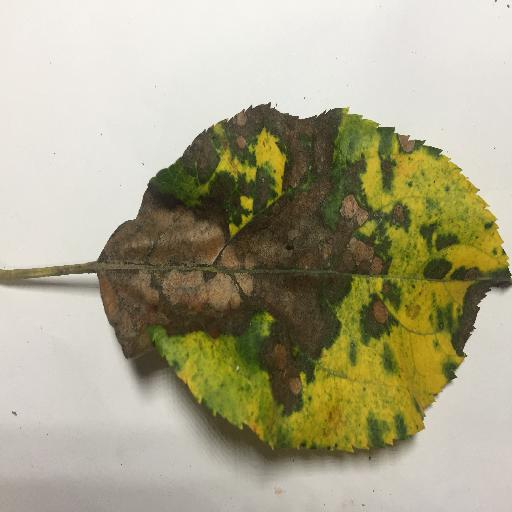Brown_Spot: (94, 107, 352, 414), (345, 189, 407, 277), (366, 292, 400, 341), (399, 128, 416, 158)
